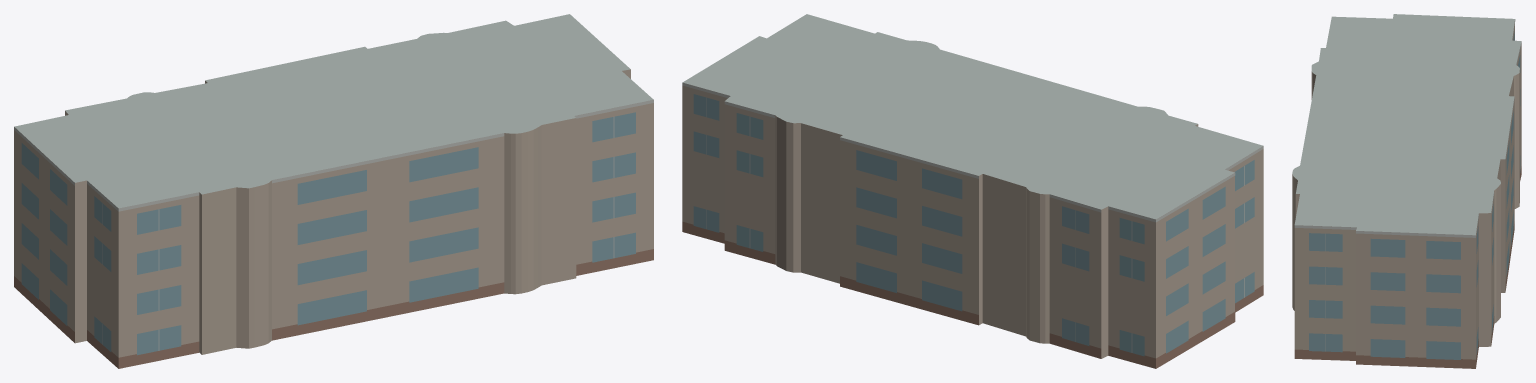
File: survey-upis-32832600.glb
3 renders of one model, left to right at view 1: azimuth 30°, elevation 25°; view 2: azimuth 150°, elevation 25°; view 3: azimuth 270°, elevation 25°, orthographic. The views are drawn at different scales.
Visible parts, largest first — view 1: survey-upis-32832600.tmp; view 2: survey-upis-32832600.tmp; view 3: survey-upis-32832600.tmp.
Boxes of the visible parts, x1,y1,x2,y2 form: survey-upis-32832600.tmp: [14, 14, 653, 368]; survey-upis-32832600.tmp: [682, 14, 1263, 368]; survey-upis-32832600.tmp: [1292, 14, 1521, 368].
Bounding box in the file's own units: 43.32 × 12.2 × 18.96.
